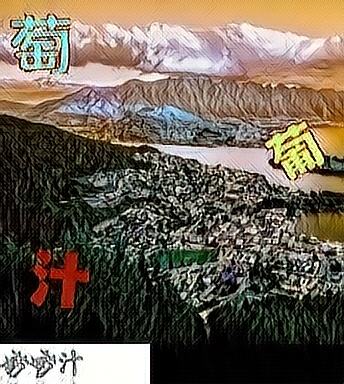C6CF: (264, 119, 324, 183)
CCD1: (8, 15, 68, 79)
D6AD: (27, 250, 87, 314)
